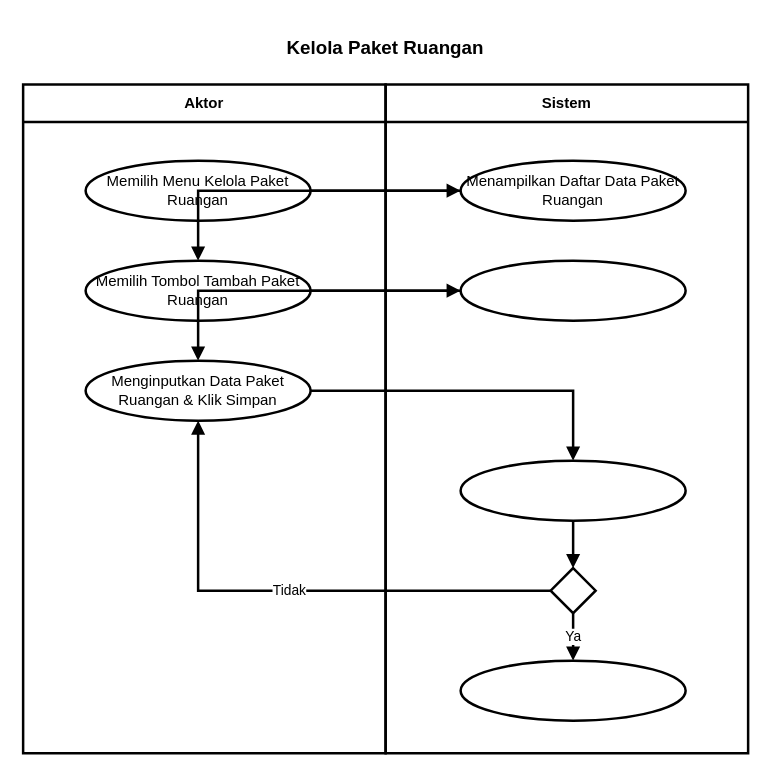
This 770x775 diagram has some shape labels left out. Each missing label, with the centre of its shape:
Memvalidasi Data: the point at 572,490
Menampilkan Form Input: the point at 572,290
Menyimpan Data ke Database & Tampilkan Pesan Sukses: the point at 572,690
